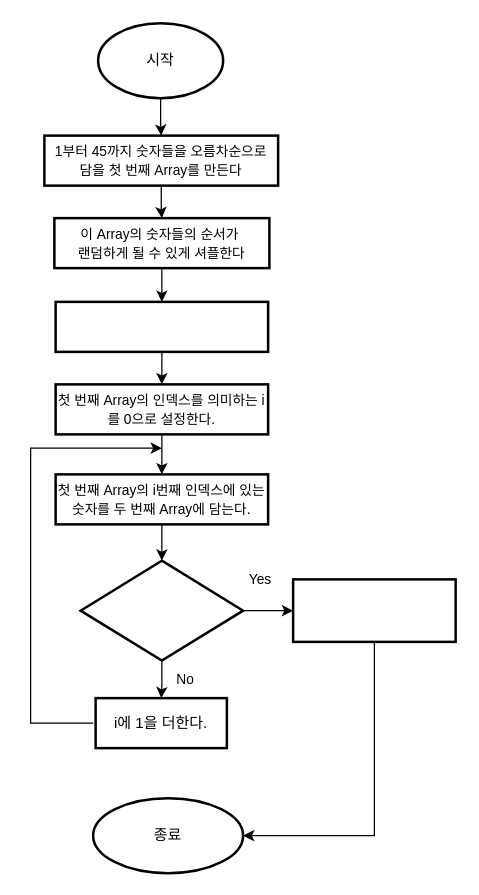
This 479x895 diagram has some shape labels left out. The shapes that lost their labels are listed below. From the top down, each one's centre as x and y in pixels, then its label:
[161,326]: 6개의 랜덤한 숫자들을 담을 두 번째 Array를 생성한다
[161,610]: i가 5인가?
[373,610]: 두 번째 Array를 반환한다.
